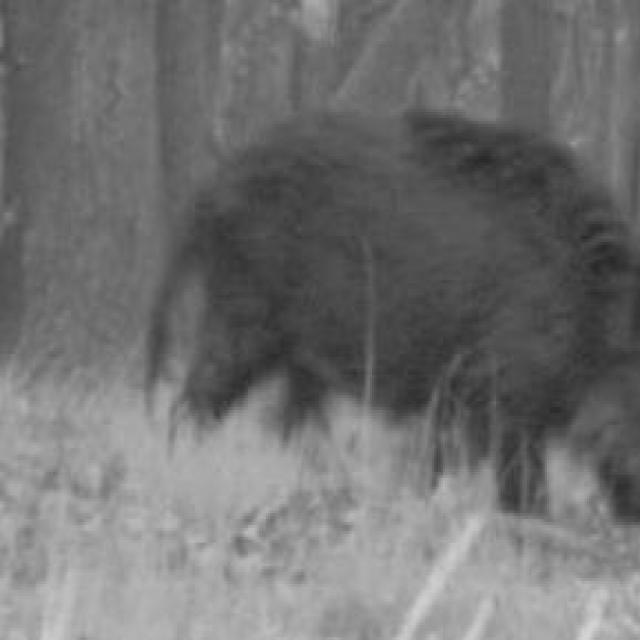pig: (158, 127, 640, 530)
